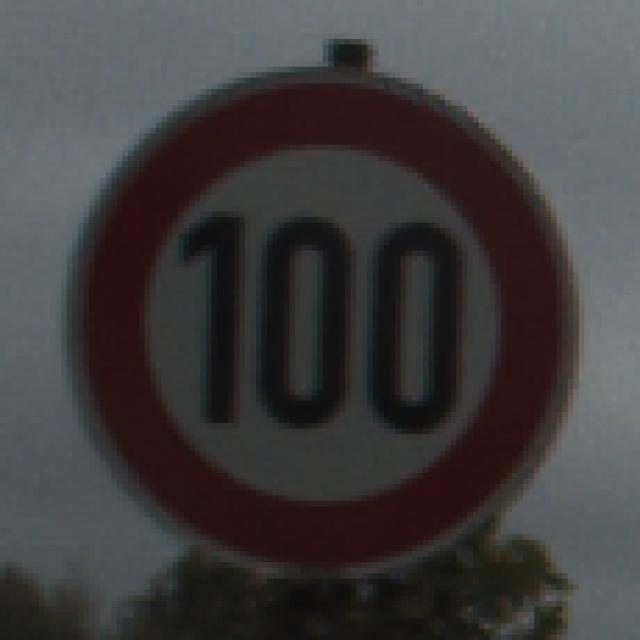speed limit 100: (69, 63, 584, 583)
